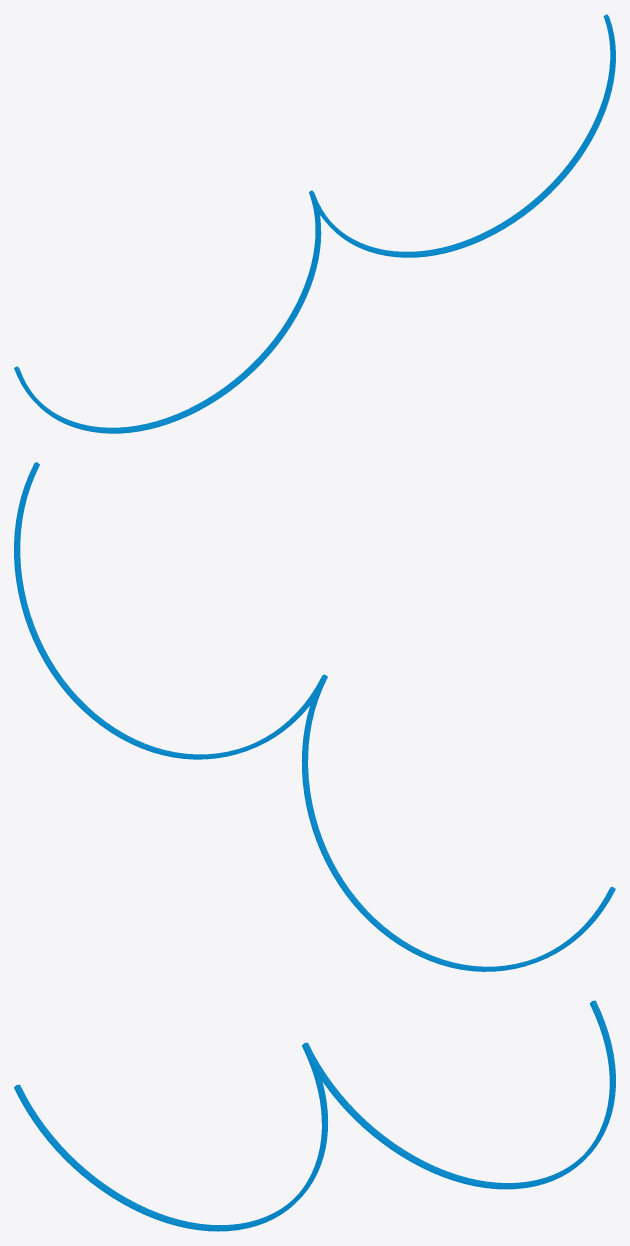
Rendered from arc3.glb.
The picture shows the model from 3 angles, top to bottom: view 1: azimuth 30°, elevation 25°; view 2: azimuth 150°, elevation 25°; view 3: azimuth 330°, elevation 25°; orthographic projection. The views are drawn at different scales.
Parts seen in each view (by area): view 1: Curve.001; view 2: Curve.001; view 3: Curve.001.
Boxes of the visible parts, bbox=[...] form: Curve.001: bbox=[14, 14, 615, 433]; Curve.001: bbox=[14, 462, 615, 971]; Curve.001: bbox=[14, 1000, 615, 1231].
Bounding box in the file's own units: 4.95 × 2.77 × 0.6016.
